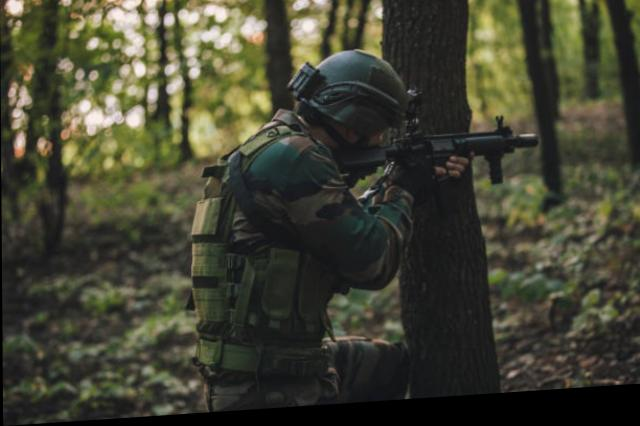other: (182, 47, 414, 408)
